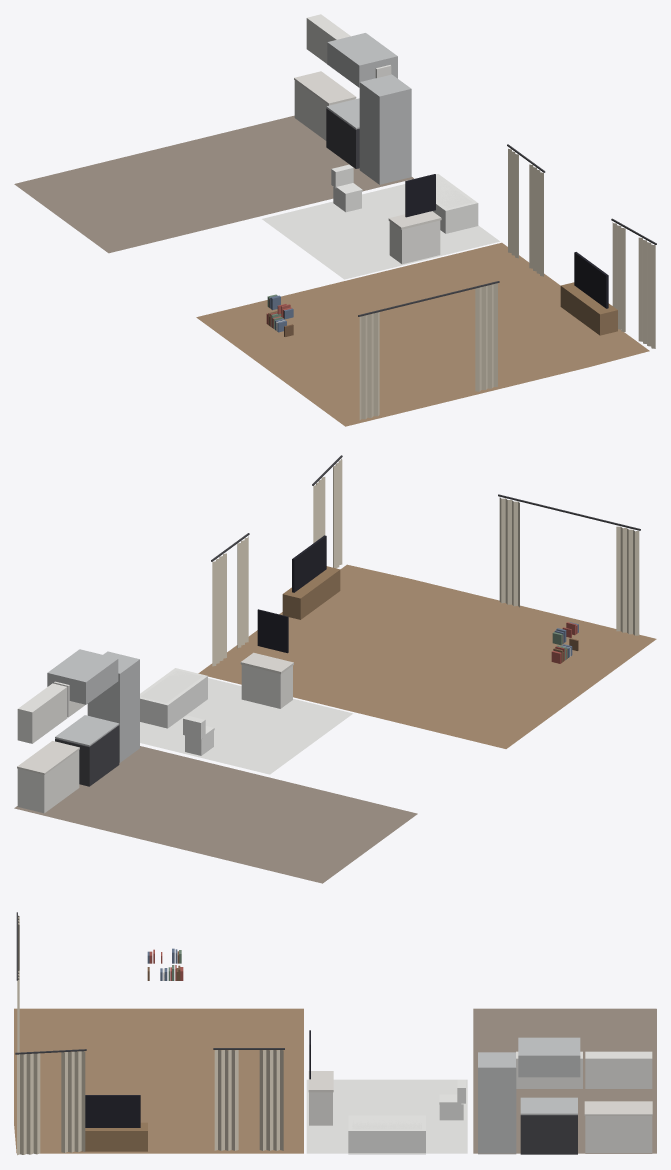
Rendered from fine-s1.glb.
3 renders of one model, top to bottom at view 1: azimuth 30°, elevation 25°; view 2: azimuth 150°, elevation 25°; view 3: azimuth 270°, elevation 25°, orthographic. The views are drawn at different scales.
Visible parts, largest first — view 1: soft-s1, fridge.000, range.000, vanity.000, tv-console.001, counter-run.000, bathtub.000, kitchen-upper.000, toilet.000; view 2: soft-s1, range.000, vanity.000, counter-run.000, fridge.000, tv-console.001, bathtub.000, kitchen-upper.000, toilet.000; view 3: soft-s1, range.000, fridge.000, counter-run.000, tv-console.001, bathtub.000, kitchen-upper.000, vanity.000, kitchen-upper.001, toilet.000.
Boxes of the visible parts, x1=… form: soft-s1: x1=14, y1=115, x2=656, y2=426; fridge.000: x1=359, y1=74, x2=411, y2=184; range.000: x1=326, y1=33, x2=397, y2=168; vanity.000: x1=388, y1=174, x2=441, y2=264; tv-console.001: x1=560, y1=252, x2=617, y2=335; counter-run.000: x1=294, y1=71, x2=356, y2=140; bathtub.000: x1=432, y1=174, x2=478, y2=233; kitchen-upper.000: x1=306, y1=14, x2=350, y2=63; toilet.000: x1=331, y1=164, x2=362, y2=212; soft-s1: x1=14, y1=455, x2=656, y2=883; range.000: x1=47, y1=649, x2=119, y2=786; vanity.000: x1=240, y1=609, x2=293, y2=708; counter-run.000: x1=17, y1=741, x2=79, y2=813; fridge.000: x1=87, y1=651, x2=139, y2=762; tv-console.001: x1=282, y1=535, x2=340, y2=619; bathtub.000: x1=140, y1=668, x2=207, y2=728; kitchen-upper.000: x1=17, y1=683, x2=67, y2=743; toilet.000: x1=183, y1=715, x2=214, y2=755; soft-s1: x1=14, y1=912, x2=656, y2=1155; range.000: x1=518, y1=1037, x2=580, y2=1154; fridge.000: x1=478, y1=1052, x2=516, y2=1154; counter-run.000: x1=584, y1=1101, x2=652, y2=1153; tv-console.001: x1=81, y1=1095, x2=147, y2=1151; bathtub.000: x1=348, y1=1115, x2=425, y2=1154; kitchen-upper.000: x1=585, y1=1051, x2=652, y2=1088; vanity.000: x1=308, y1=1030, x2=333, y2=1125; kitchen-upper.001: x1=516, y1=1051, x2=582, y2=1088; toilet.000: x1=439, y1=1079, x2=465, y2=1120.
Size of the model in its own units: 7.31 by 2.41 by 13.44.
